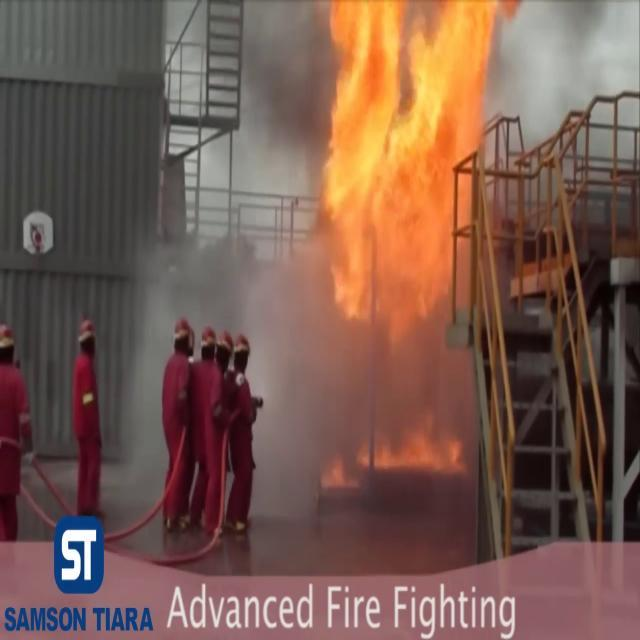Fire: (310, 1, 510, 332)
